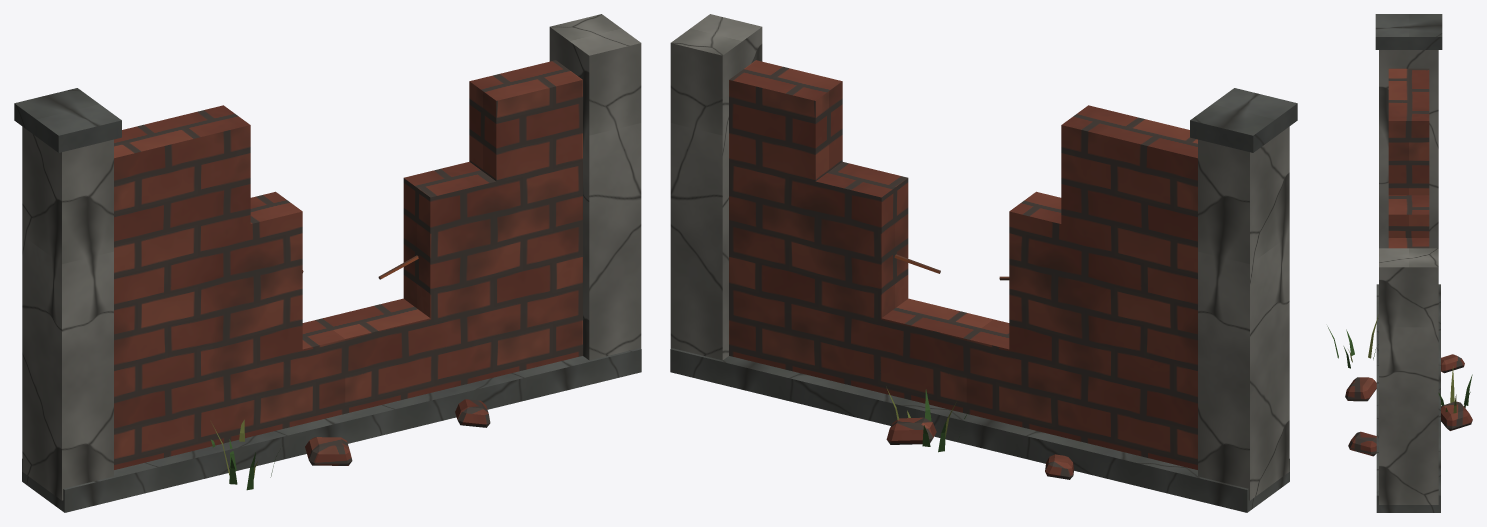
Rendered from env_wall_ruined_brick.glb.
3 renders of one model, left to right at view 1: azimuth 30°, elevation 25°; view 2: azimuth 150°, elevation 25°; view 3: azimuth 270°, elevation 25°, orthographic. The views are drawn at different scales.
Visible parts, largest first — view 1: Env_wall_ruined_brick; view 2: Env_wall_ruined_brick; view 3: Env_wall_ruined_brick.
Boxes of the visible parts, left/top/right/bottom form: Env_wall_ruined_brick: left=14, top=14, right=641, bottom=512; Env_wall_ruined_brick: left=670, top=14, right=1297, bottom=512; Env_wall_ruined_brick: left=1327, top=14, right=1472, bottom=512.
Size of the model in its own units: 4.26 by 2.67 by 1.23.
Materials: 6 (6 with a texture image).
